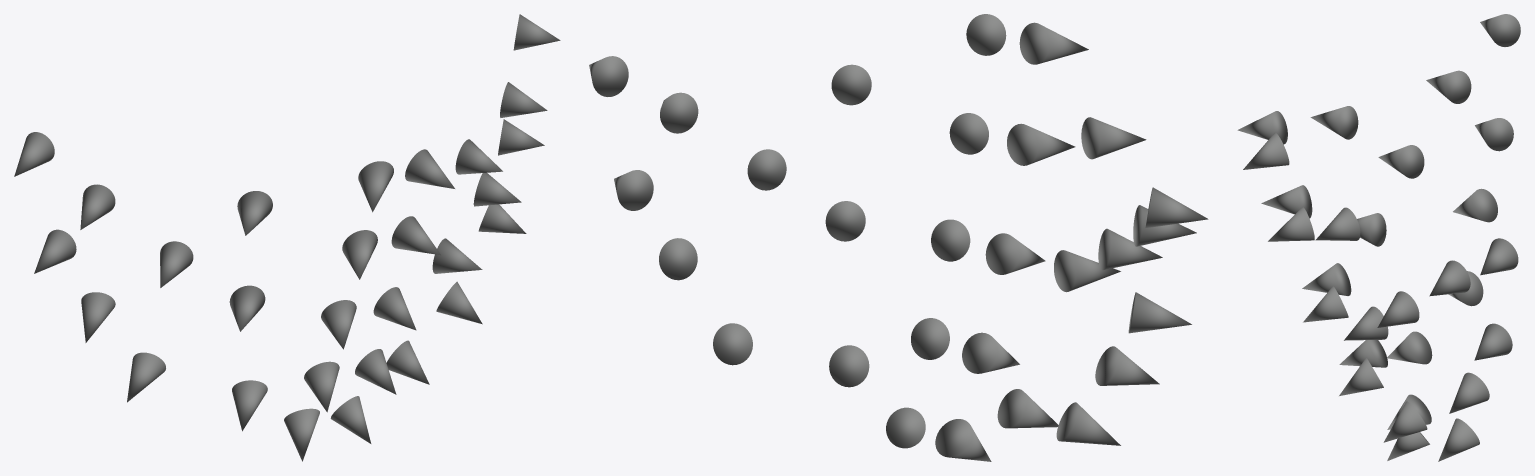
The model's file is WrenchMask_Part0.obj.
3 renders of one model, left to right at view 1: azimuth 30°, elevation 25°; view 2: azimuth 150°, elevation 25°; view 3: azimuth 270°, elevation 25°, orthographic. The views are drawn at different scales.
Parts seen in each view (by area): view 1: wrenchmaskf_wrenchmask_ref; view 2: wrenchmaskf_wrenchmask_ref; view 3: wrenchmaskf_wrenchmask_ref.
Part boxes in pixels (x1,y1,x2,y2): wrenchmaskf_wrenchmask_ref: (14,14,560,461); wrenchmaskf_wrenchmask_ref: (589,14,1208,461); wrenchmaskf_wrenchmask_ref: (1237,14,1520,461).
Bounding box in the file's own units: 6.27 × 3.72 × 2.94.
